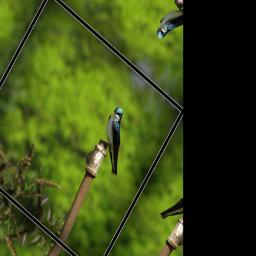Swallow: (88, 103, 143, 179)
